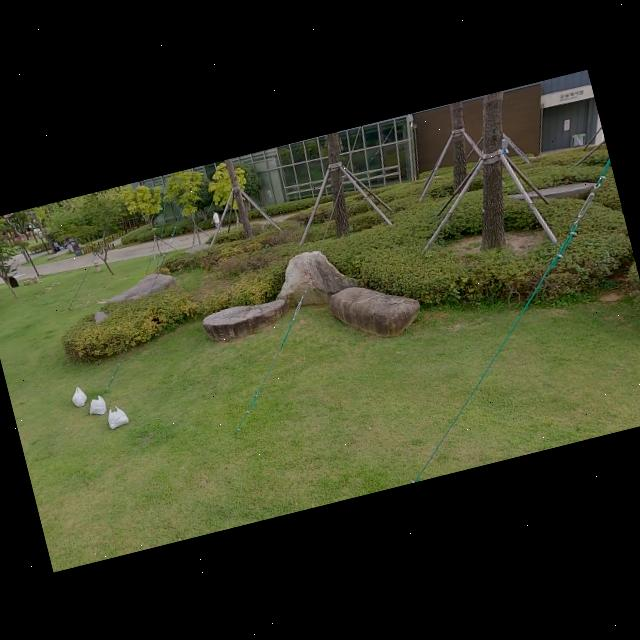trash: (102, 401, 130, 431), (83, 392, 110, 421), (64, 378, 89, 408)
